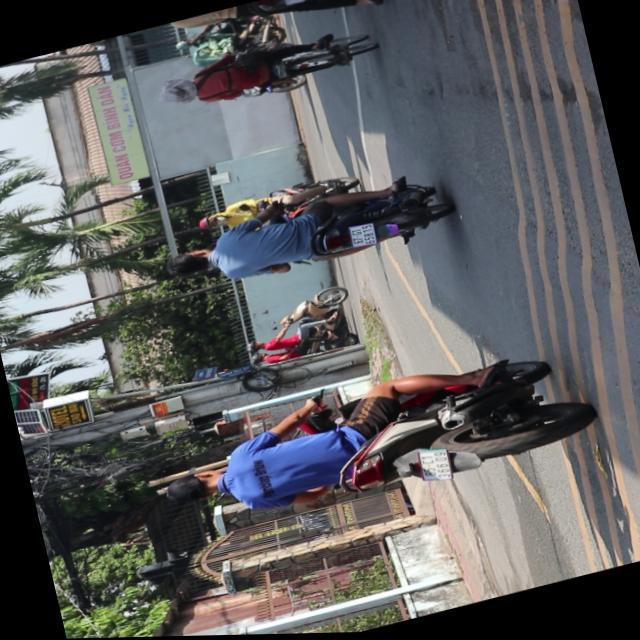licenseplate: (145, 333, 598, 554), (154, 167, 457, 310), (129, 0, 384, 63)
motorcyclist: (160, 466, 229, 513), (162, 246, 216, 285)
nohelmet: (415, 447, 451, 487), (347, 224, 375, 250), (280, 0, 302, 7)
